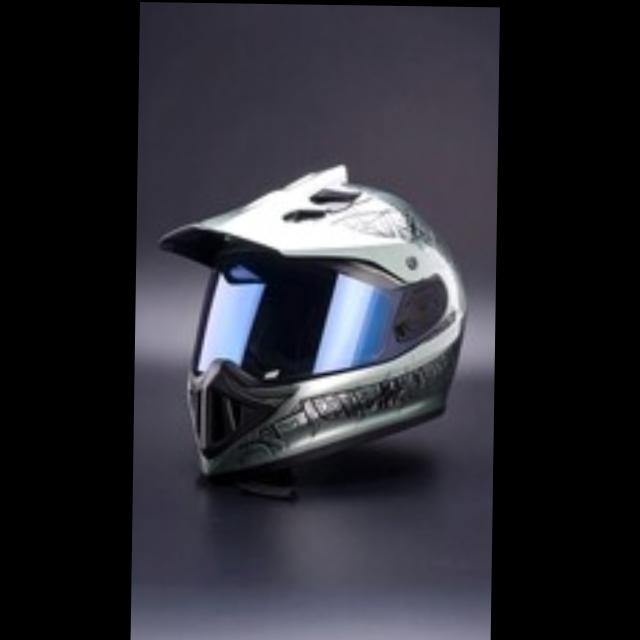motorcycle-helmets: (160, 165, 464, 492)
